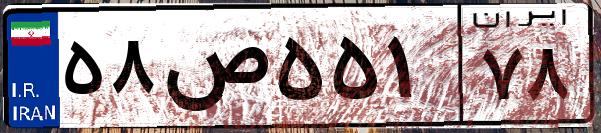1: (385, 28, 445, 110)
5: (270, 28, 330, 110), (330, 28, 385, 110), (57, 26, 110, 100)
7: (475, 38, 525, 113)
8: (525, 38, 570, 115), (110, 28, 158, 98)
ص: (158, 20, 270, 120)
